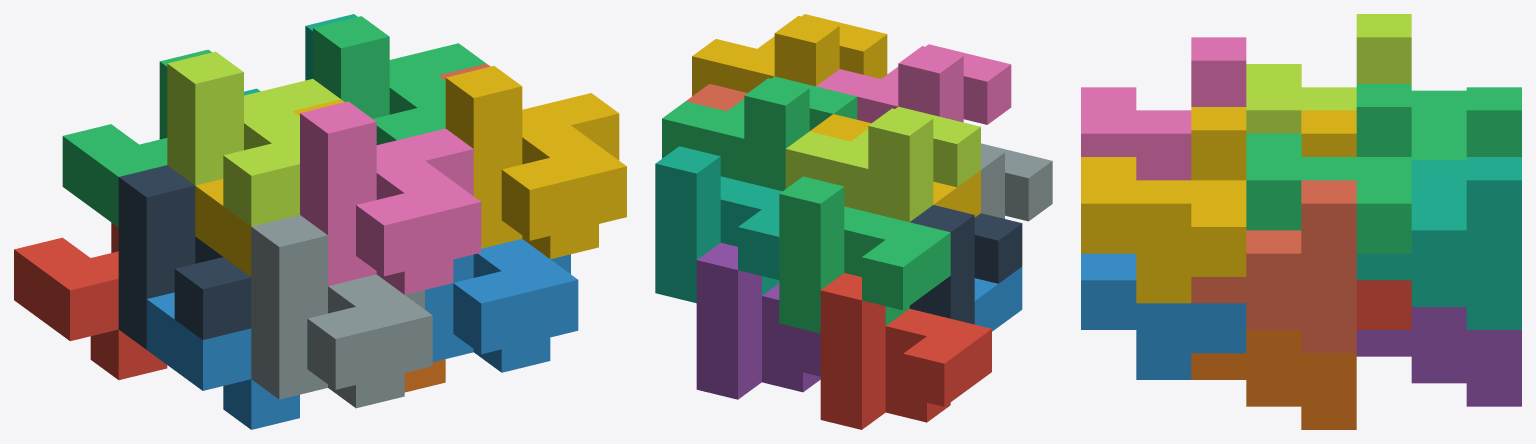
Rendered from tiling.obj.
The picture shows the model from 3 angles, left to right: view 1: azimuth 30°, elevation 25°; view 2: azimuth 150°, elevation 25°; view 3: azimuth 270°, elevation 25°; orthographic projection. The views are drawn at different scales.
Parts seen in each view (by area): view 1: copy_2_domain_4, copy_2_domain_8, copy_2_domain_2, copy_2_domain_3, copy_2_domain_1, copy_2_domain_6, copy_2_domain_7, copy_1_domain_1, copy_1_domain_2, copy_1_domain_3, copy_1_domain_4, copy_1_domain_6 (+1 smaller); view 2: copy_1_domain_1, copy_1_domain_3, copy_2_domain_3, copy_1_domain_7, copy_1_domain_5, copy_2_domain_7, copy_2_domain_8, copy_2_domain_4, copy_2_domain_1, copy_2_domain_2, copy_1_domain_4, copy_1_domain_2 (+1 smaller); view 3: copy_2_domain_8, copy_1_domain_7, copy_1_domain_8, copy_2_domain_7, copy_2_domain_4, copy_2_domain_6, copy_1_domain_6, copy_1_domain_5, copy_2_domain_3, copy_1_domain_3, copy_2_domain_5, copy_1_domain_4.
Boxes of the visible parts, x1,y1,x2,y2 form: copy_2_domain_4: (300, 101, 481, 294); copy_2_domain_8: (445, 66, 626, 259); copy_2_domain_2: (251, 215, 432, 408); copy_2_domain_3: (167, 51, 340, 226); copy_2_domain_1: (118, 165, 251, 349); copy_2_domain_6: (425, 239, 578, 372); copy_2_domain_7: (313, 16, 486, 144); copy_1_domain_1: (14, 222, 167, 379); copy_1_domain_2: (146, 292, 299, 429); copy_1_domain_3: (62, 49, 211, 227); copy_1_domain_4: (195, 99, 344, 276); copy_1_domain_6: (404, 359, 445, 392); copy_1_domain_1: (820, 273, 991, 429); copy_1_domain_3: (779, 176, 950, 333); copy_2_domain_3: (785, 106, 980, 222); copy_1_domain_7: (655, 146, 782, 303); copy_1_domain_5: (696, 242, 820, 399); copy_2_domain_7: (662, 76, 857, 191); copy_2_domain_8: (692, 14, 887, 96); copy_2_domain_4: (816, 44, 1011, 124); copy_2_domain_1: (909, 205, 1022, 324); copy_2_domain_2: (981, 143, 1052, 221); copy_1_domain_4: (810, 114, 980, 217); copy_1_domain_2: (974, 267, 1022, 331); copy_2_domain_8: (1081, 107, 1246, 303); copy_1_domain_7: (1356, 157, 1521, 329); copy_1_domain_8: (1191, 180, 1356, 353); copy_2_domain_7: (1246, 84, 1411, 253); copy_2_domain_4: (1081, 37, 1246, 180); copy_2_domain_6: (1081, 253, 1246, 379); copy_1_domain_6: (1191, 330, 1356, 429); copy_1_domain_5: (1356, 307, 1521, 406); copy_2_domain_3: (1246, 14, 1411, 133); copy_1_domain_3: (1411, 87, 1521, 160); copy_2_domain_5: (1356, 280, 1411, 329); copy_1_domain_4: (1301, 110, 1356, 156).
Size of the model in its own units: 9 by 6 by 8.
